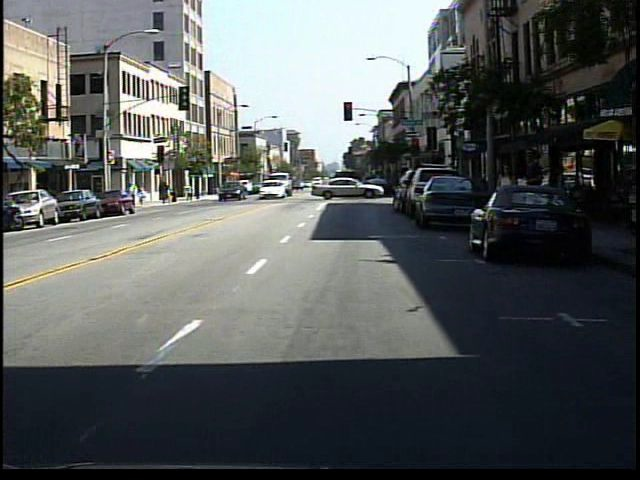person: (516, 147, 546, 245), (496, 155, 520, 240), (138, 182, 152, 208)
